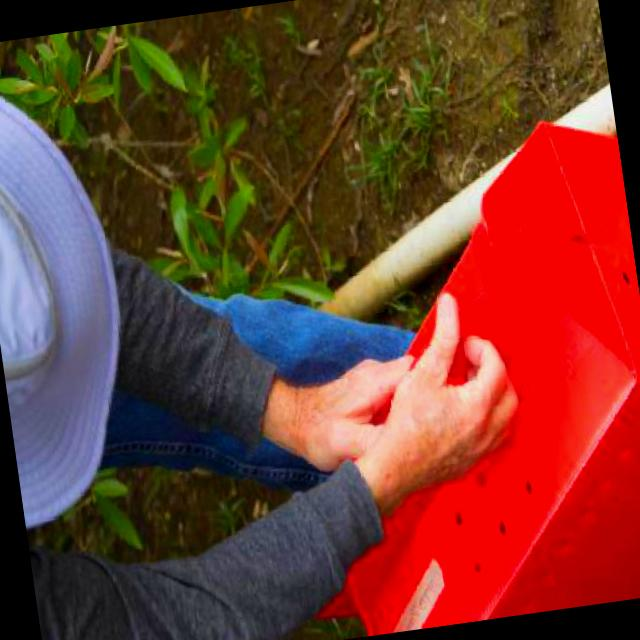Person: (0, 2, 545, 640)
